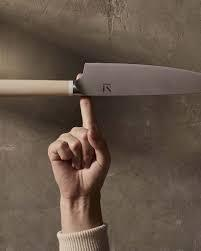Knife: (1, 61, 200, 98)
